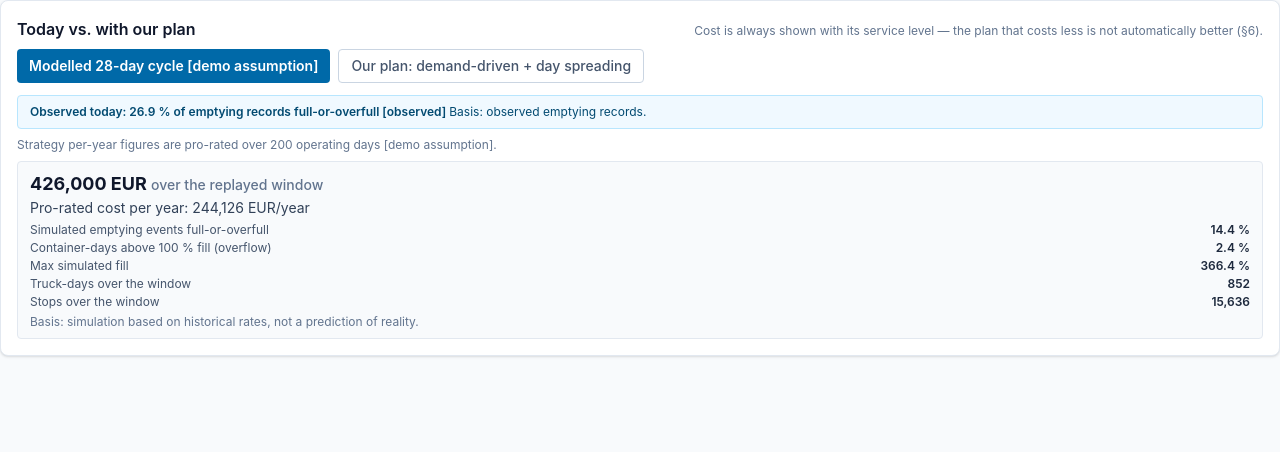
Test: TodayPlanToggle — cost + service together (§6) › flags cost-less-but-service-worse honestly (§6 warning case)
Click the button with test id "toggle-plan" at (491, 66), box [338, 49, 644, 83]
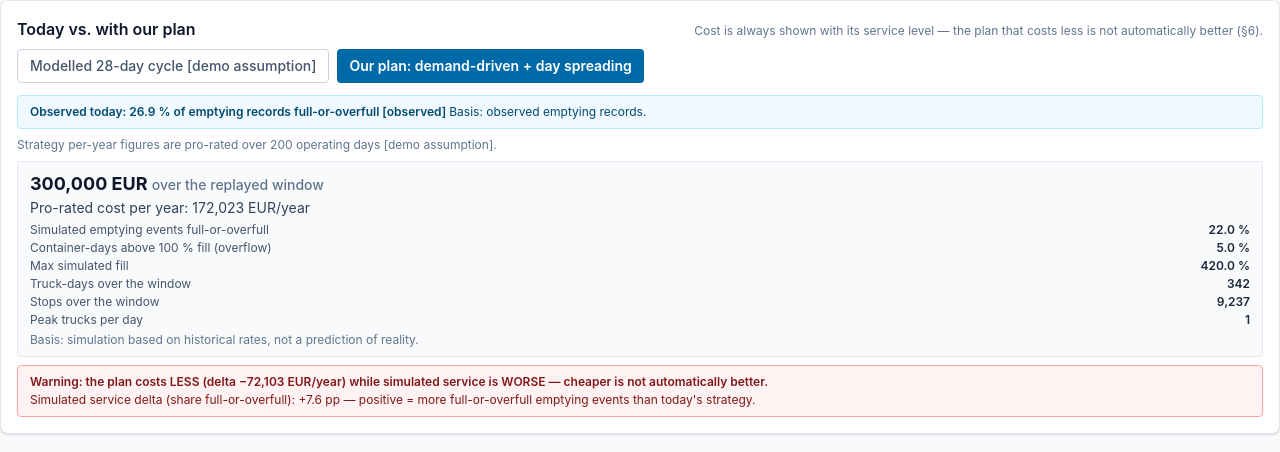
Expected: the element with test id "toggle-tradeoff" shows "costs LESS", [30, 374, 768, 389]
Expected: the element with test id "toggle-tradeoff" shows "WORSE", [30, 374, 768, 389]
